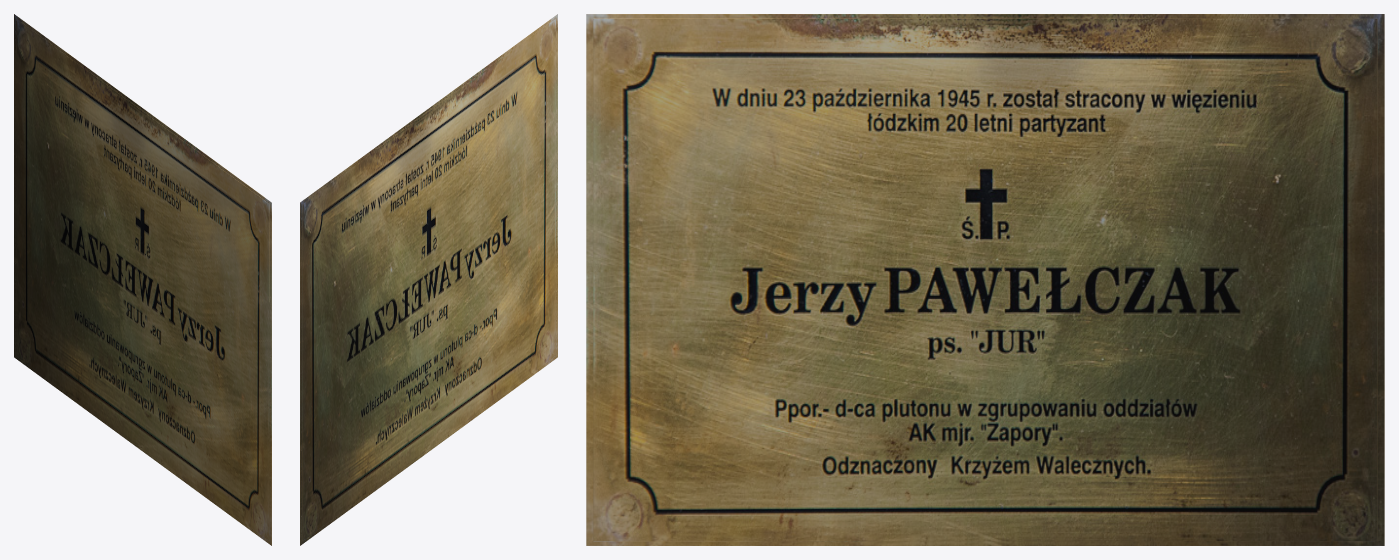
The model's file is 60. JERZY PAWEŁCZAK.glb.
3 renders of one model, left to right at view 1: azimuth 30°, elevation 25°; view 2: azimuth 150°, elevation 25°; view 3: azimuth 270°, elevation 25°, orthographic. The views are drawn at different scales.
Visible parts, largest first — view 1: Plane; view 2: Plane; view 3: Plane.
Boxes of the visible parts, x1=… form: Plane: x1=14, y1=14, x2=271, y2=545; Plane: x1=300, y1=14, x2=557, y2=545; Plane: x1=586, y1=14, x2=1384, y2=545.
Size of the model in its own units: 0.0246 by 14.7 by 20.
Materials: 1 (1 with a texture image).
